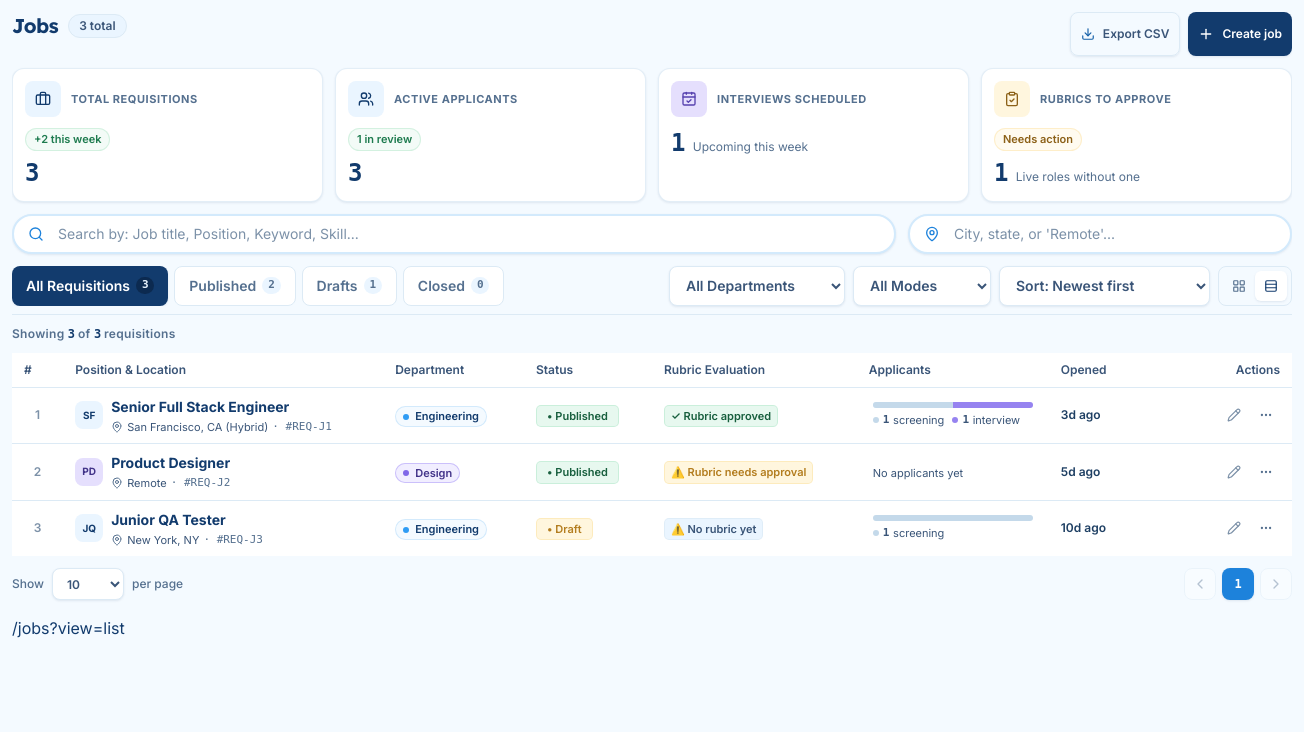
Test: JobList Recruiter UX & Navigation › renders 4 KPI metric cards, export button, and opens the job's workspace when clicking a job row
Check: the button "Senior Full Stack Engineer" is shown, box [111,396,332,416]
Check: the text "Total Requisitions" is shown, box [71,91,198,107]
Click the text "Senior Full Stack Engineer": (652, 415) [12,387,1292,444]
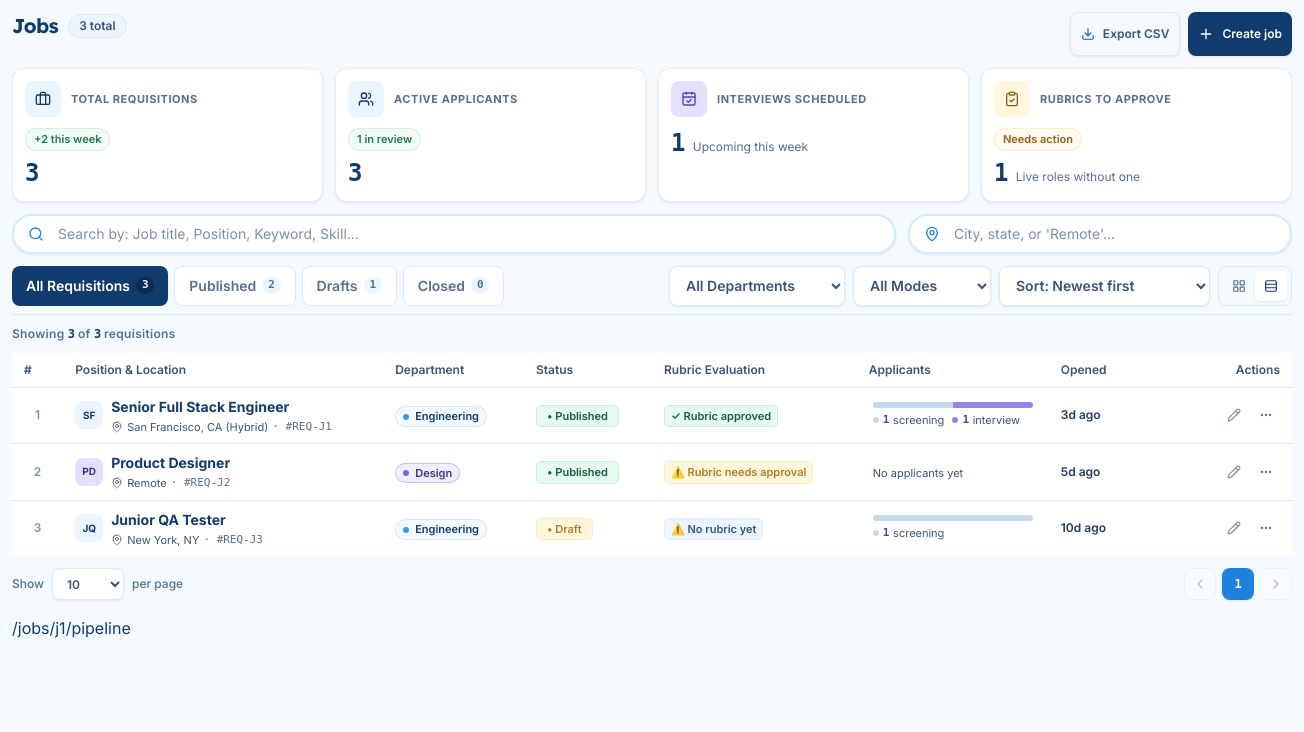
Check: the text with test id "location" reads "/jobs/j1/pipeline", box [12,618,131,638]
